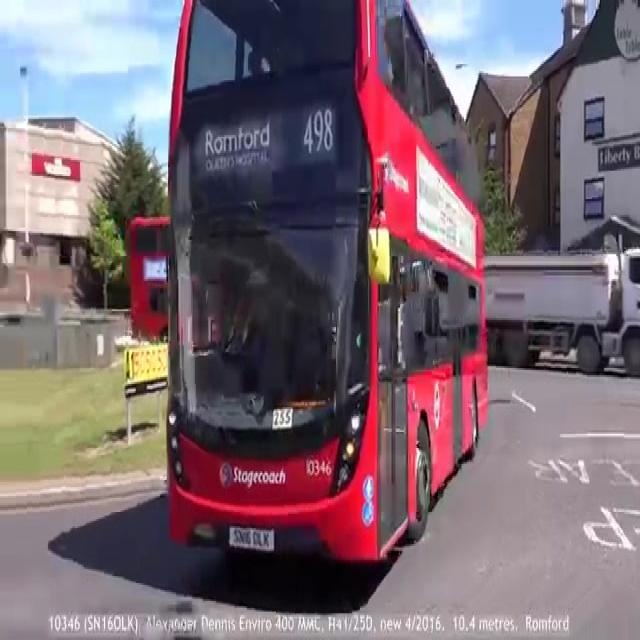Bus: (168, 0, 488, 562), (122, 212, 169, 342)
